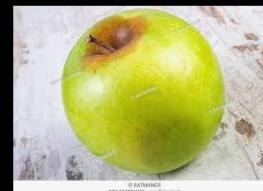rotten apple: (59, 6, 231, 176)
